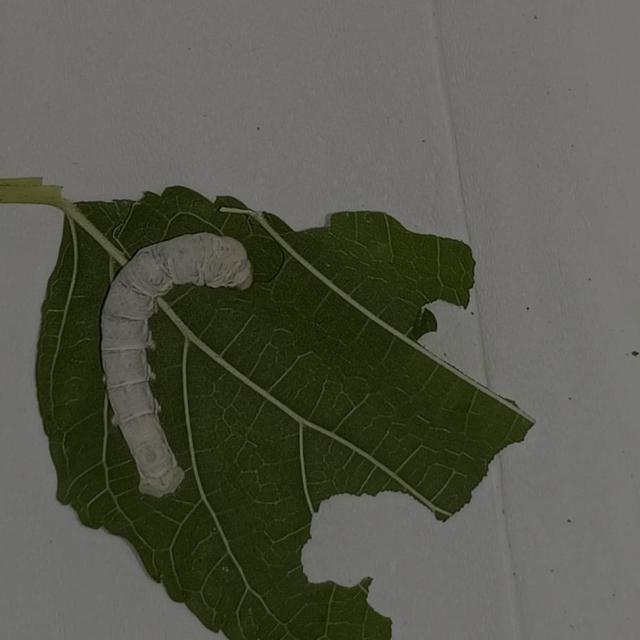Healthy: (84, 207, 278, 516)
